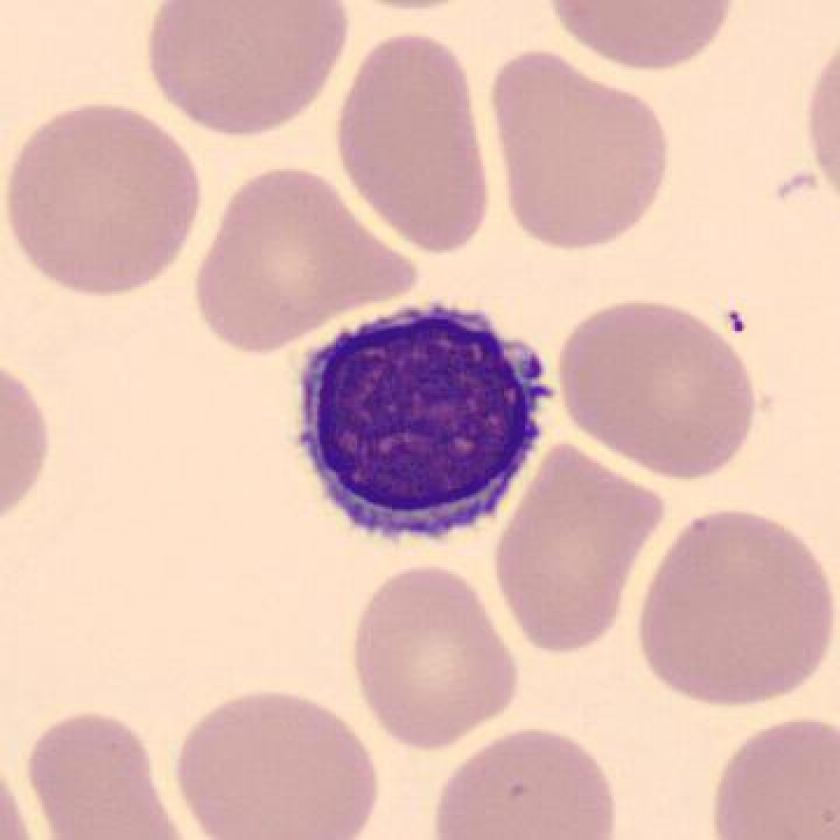lymphocyte: (279, 288, 566, 561)
